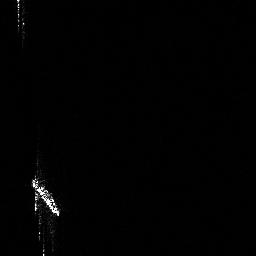ship: (28, 171, 65, 222)
